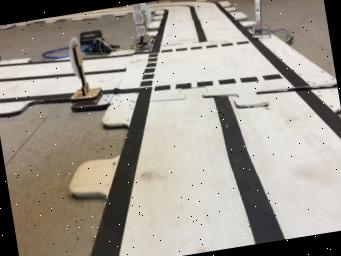street: (91, 0, 341, 256), (91, 0, 341, 256), (0, 60, 81, 103), (0, 60, 81, 103)
traffic_light: (131, 3, 152, 52), (131, 3, 152, 52), (250, 0, 271, 38), (250, 0, 271, 38)
